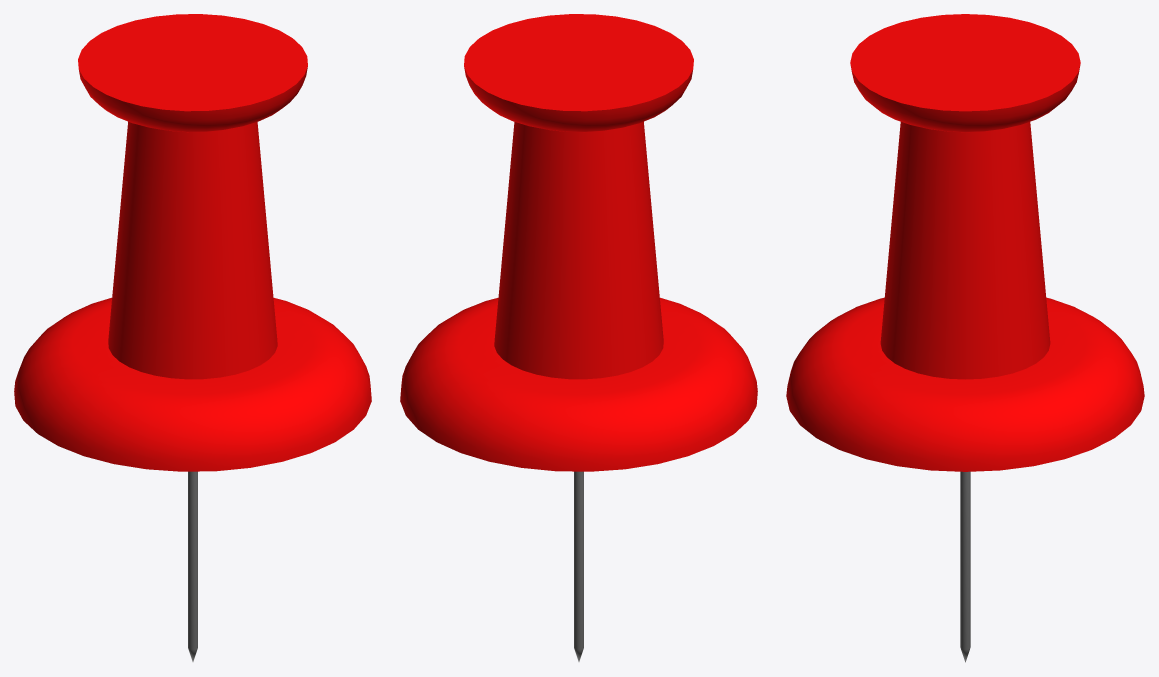
Rendered from MapPin.glb.
3 renders of one model, left to right at view 1: azimuth 30°, elevation 25°; view 2: azimuth 150°, elevation 25°; view 3: azimuth 270°, elevation 25°, orthographic.
Visible parts, largest first — view 1: кнопка; view 2: кнопка; view 3: кнопка.
Part boxes in pixels (<box>): кнопка: <box>14,14,371,661</box>; кнопка: <box>400,14,757,661</box>; кнопка: <box>786,14,1144,662</box>.
Size of the model in its own units: 0.0135 by 0.025 by 0.0135.
